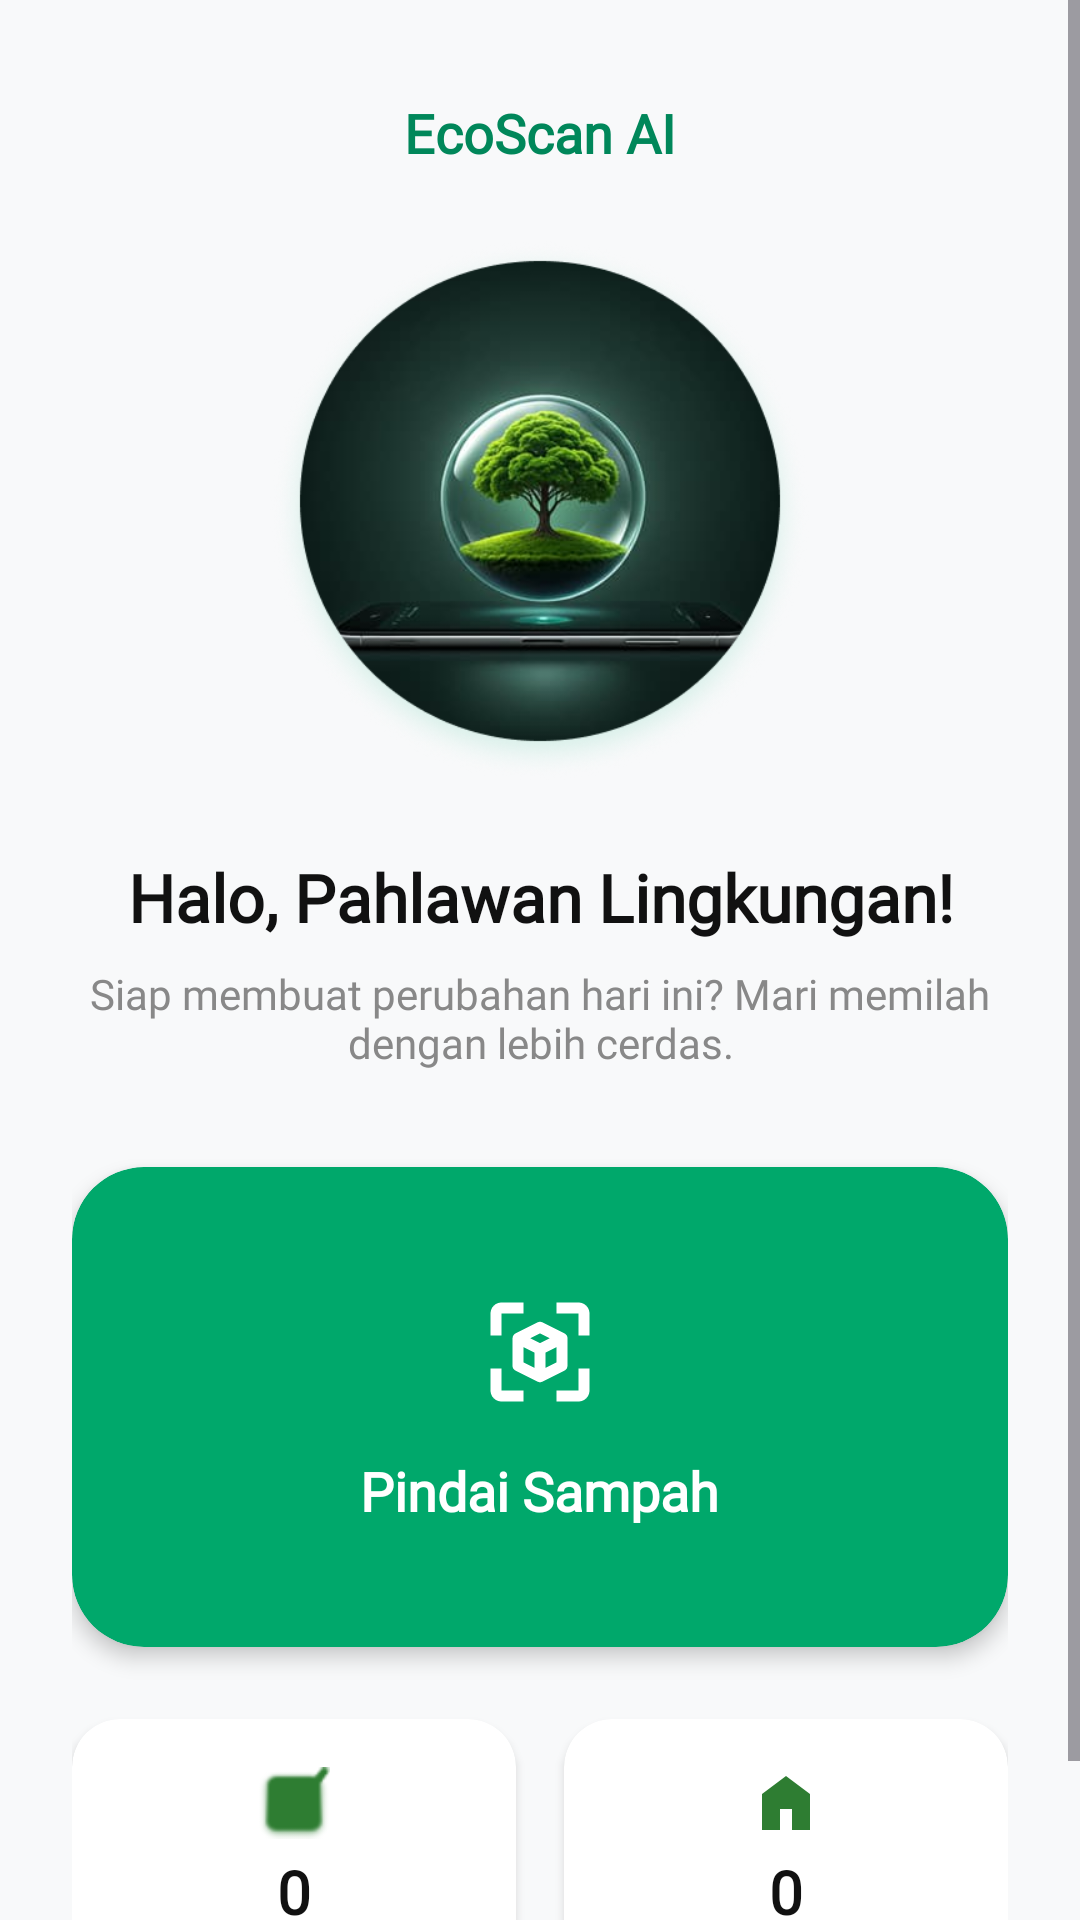

Locate icon controls on the screen. Image size 1080 × 1920, boxes as (x1, y1, x2, y2).
home: (762, 1776, 810, 1830)
scan: (490, 1302, 590, 1402)
